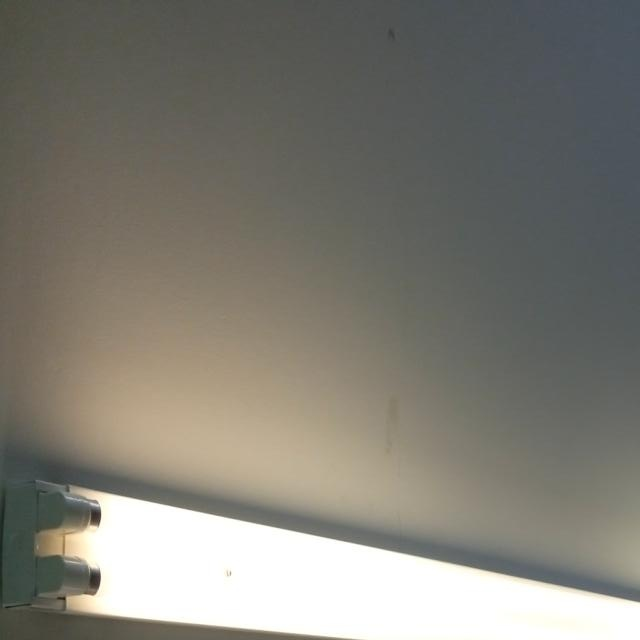fluorescent tube: (0, 457, 640, 640)
